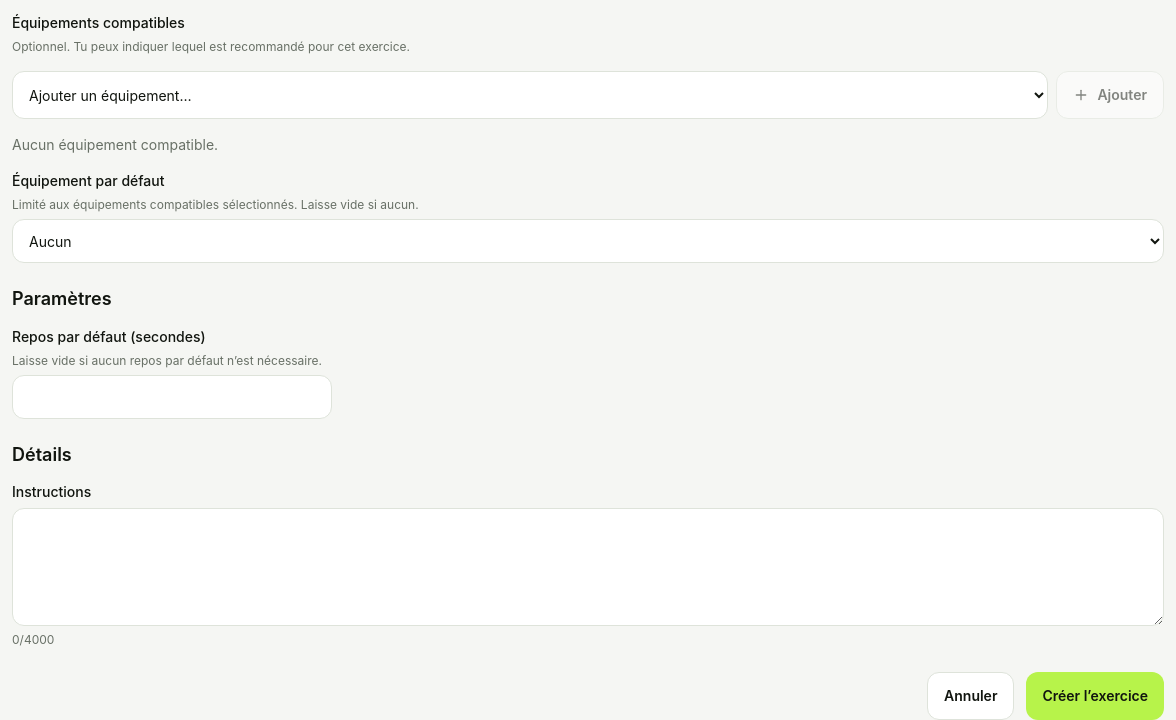
Test case: ExerciseForm › requires name and primary muscle group
(page scrolled)
What coordinates should you click on to do the following:
click the button "Créer l’exercice"
I would click on:
 (1095, 696)
Its box is left=1026, top=672, right=1164, bottom=719.
(page scrolled)
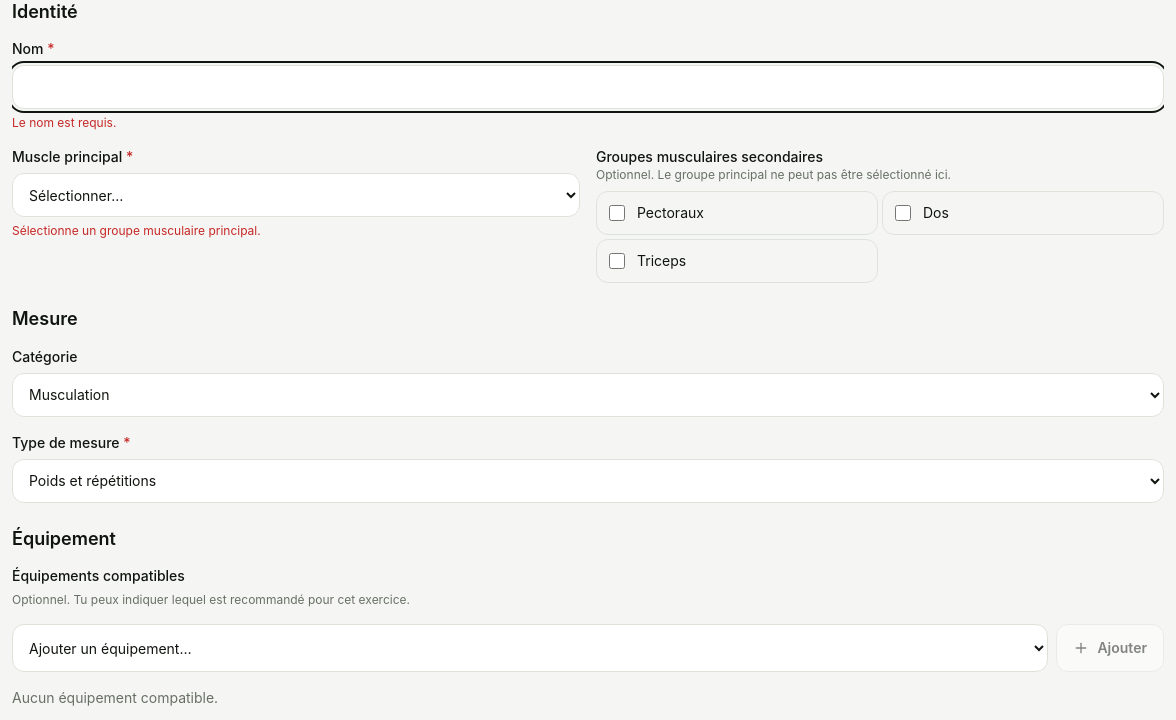
Now the text "Le nom est requis." is shown, box left=12, top=115, right=116, bottom=130
Now the text "Sélectionne un groupe musculaire principal." is shown, box left=12, top=223, right=261, bottom=238
